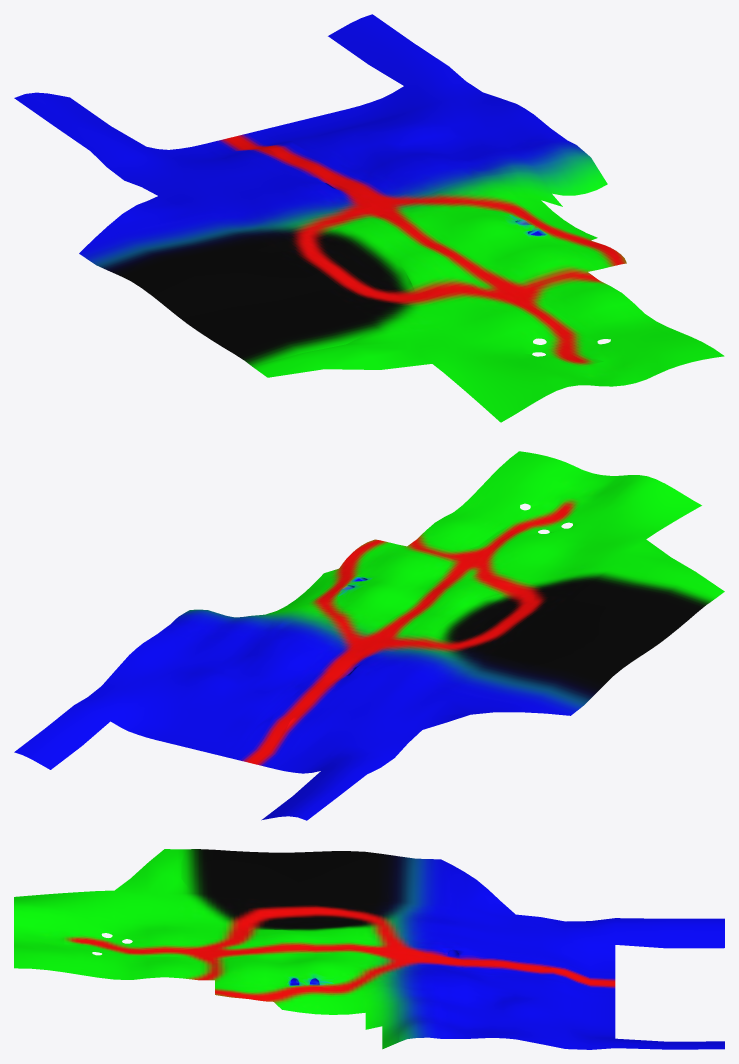
Rendered from terrain1.glb.
3 renders of one model, top to bottom at view 1: azimuth 30°, elevation 25°; view 2: azimuth 150°, elevation 25°; view 3: azimuth 270°, elevation 25°, orthographic. The views are drawn at different scales.
Parts seen in each view (by area): view 1: rock_brown.jpg_splat.jpg, grass2.jpg_splat.jpg, sand2.jpg_splat.jpg, dirt.jpg_splat.jpg; view 2: rock_brown.jpg_splat.jpg, grass2.jpg_splat.jpg, sand2.jpg_splat.jpg, dirt.jpg_splat.jpg; view 3: rock_brown.jpg_splat.jpg, grass2.jpg_splat.jpg, sand2.jpg_splat.jpg, dirt.jpg_splat.jpg.
Part boxes in pixels (bbox=[...]): rock_brown.jpg_splat.jpg: bbox=[14, 14, 595, 270]; grass2.jpg_splat.jpg: bbox=[252, 166, 724, 422]; sand2.jpg_splat.jpg: bbox=[108, 229, 414, 366]; dirt.jpg_splat.jpg: bbox=[225, 131, 626, 364]; rock_brown.jpg_splat.jpg: bbox=[14, 577, 593, 820]; grass2.jpg_splat.jpg: bbox=[251, 451, 724, 662]; sand2.jpg_splat.jpg: bbox=[438, 574, 711, 694]; dirt.jpg_splat.jpg: bbox=[230, 496, 573, 764]; rock_brown.jpg_splat.jpg: bbox=[289, 856, 724, 1049]; grass2.jpg_splat.jpg: bbox=[14, 849, 399, 1049]; sand2.jpg_splat.jpg: bbox=[181, 849, 399, 931]; dirt.jpg_splat.jpg: bbox=[64, 912, 615, 1001].
Bounding box in the file's own units: 192 × 25.93 × 330.
Materials: 4 (4 with a texture image).
